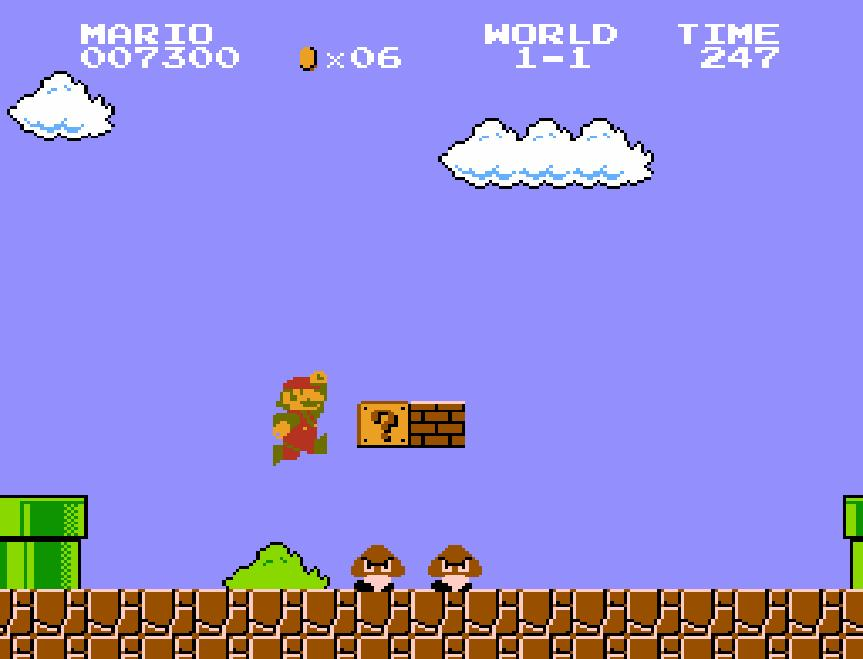big_mario: (270, 369, 328, 467)
